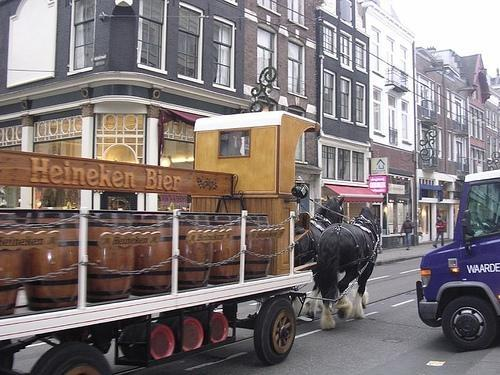truck: (0, 116, 327, 368), (414, 167, 500, 352)
